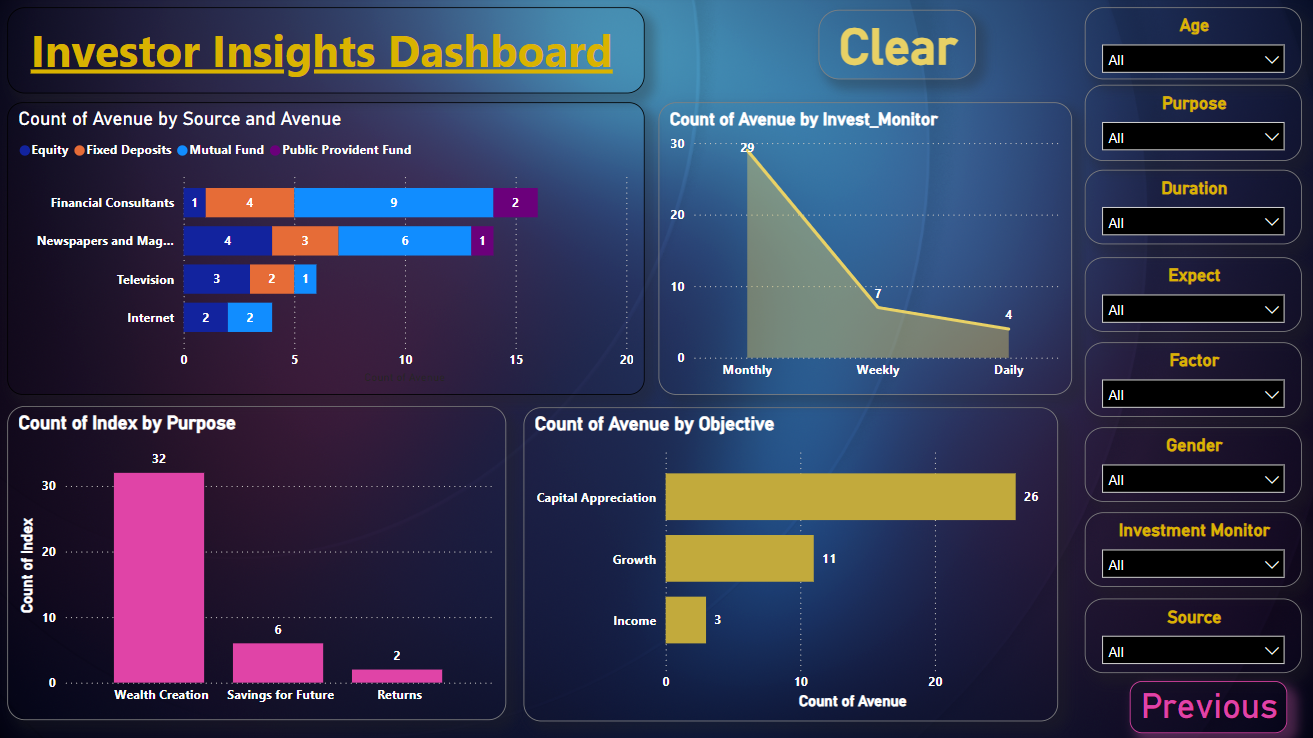

The dashboard page shown, as its layout file describes it:
{"tool":"powerbi","page":{"name":"Duplicate of Page 2","canvas":[1280,720],"ordinal":1},"visuals":[{"type":"slicer","title":"Age","fields":{"Values":["Data_set 2 - Copy.age"]},"box":[1050.8,10.9,209.9,70],"z":0},{"type":"slicer","title":"Purpose","fields":{"Values":["Data_set 2 - Copy.Purpose"]},"box":[1050.8,85.7,209.9,73.6],"z":1000},{"type":"slicer","title":"Duration","fields":{"Values":["Data_set 2 - Copy.Duration"]},"box":[1050.8,167.7,209.9,72.4],"z":2000},{"type":"slicer","title":"Expect","fields":{"Values":["Data_set 2 - Copy.Expect"]},"box":[1050.8,252.1,209.9,72.4],"z":3000},{"type":"slicer","title":"Factor","fields":{"Values":["Data_set 2 - Copy.Factor"]},"box":[1050.8,334.2,209.9,72.4],"z":4000},{"type":"slicer","title":"Gender","fields":{"Values":["Data_set 2 - Copy.gender"]},"box":[1050.8,416.2,209.9,72.4],"z":5000},{"type":"slicer","title":"Investment Monitor ","fields":{"Values":["Data_set 2 - Copy.Invest_Monitor"]},"box":[1050.8,498.3,209.9,72.4],"z":6000},{"type":"slicer","title":"Source ","fields":{"Values":["Data_set 2 - Copy.Source"]},"box":[1050.8,581.5,209.9,72.4],"z":7000},{"type":"textbox","box":[10.9,10.9,615.3,83.2],"z":13000},{"type":"shape","title":"Previous","box":[1094.2,661.1,152,50.7],"z":14000},{"type":"columnChart","fields":{"Category":["Data_set 2 - Copy.Purpose"],"Y":["Count(Data_set 2 - Copy.Index)"]},"box":[10.9,395.7,481.4,302.8],"z":14002},{"type":"clusteredBarChart","fields":{"Category":["Data_set 2 - Copy.Objective"],"Y":["CountNonNull(Data_set 2 - Copy.Avenue)"]},"box":[509.1,396.9,516.4,302.8],"z":14003},{"type":"barChart","fields":{"Category":["Data_set 2 - Copy.Source"],"Series":["Data_set 2 - Copy.Avenue"],"Y":["CountNonNull(Data_set 2 - Copy.Avenue)"]},"box":[10.9,102.5,615.3,282.3],"z":14004},{"type":"areaChart","title":"Count of Avenue by Invest_Monitor","fields":{"Category":["Data_set 2 - Copy.Invest_Monitor"],"Y":["CountNonNull(Data_set 2 - Copy.Index)"]},"box":[639.4,102.5,399.3,282.3],"z":14005},{"type":"shape","title":"Clear","box":[793.8,13.3,152,67.6],"z":14006}]}

Visuals, with their boxes in screenshot pixels (x1, y1, x2, y2), scaled from the page's 1280x720 canvas onto the 1313x738 screenshot:
"Age" slicer: x1=1078, y1=11, x2=1293, y2=83
"Purpose" slicer: x1=1078, y1=88, x2=1293, y2=163
"Duration" slicer: x1=1078, y1=172, x2=1293, y2=246
"Expect" slicer: x1=1078, y1=258, x2=1293, y2=333
"Factor" slicer: x1=1078, y1=343, x2=1293, y2=417
"Gender" slicer: x1=1078, y1=427, x2=1293, y2=501
"Investment Monitor " slicer: x1=1078, y1=511, x2=1293, y2=585
"Source " slicer: x1=1078, y1=596, x2=1293, y2=670
textbox: x1=11, y1=11, x2=642, y2=96
"Previous" shape: x1=1122, y1=678, x2=1278, y2=730
columnChart - Data_set 2 - Copy.Purpose x Count(Data_set 2 - Copy.Index): x1=11, y1=406, x2=505, y2=716
clusteredBarChart - Data_set 2 - Copy.Objective x CountNonNull(Data_set 2 - Copy.Avenue): x1=522, y1=407, x2=1052, y2=717
barChart - Data_set 2 - Copy.Source x Data_set 2 - Copy.Avenue: x1=11, y1=105, x2=642, y2=394
"Count of Avenue by Invest_Monitor" areaChart: x1=656, y1=105, x2=1065, y2=394
"Clear" shape: x1=814, y1=14, x2=970, y2=83
